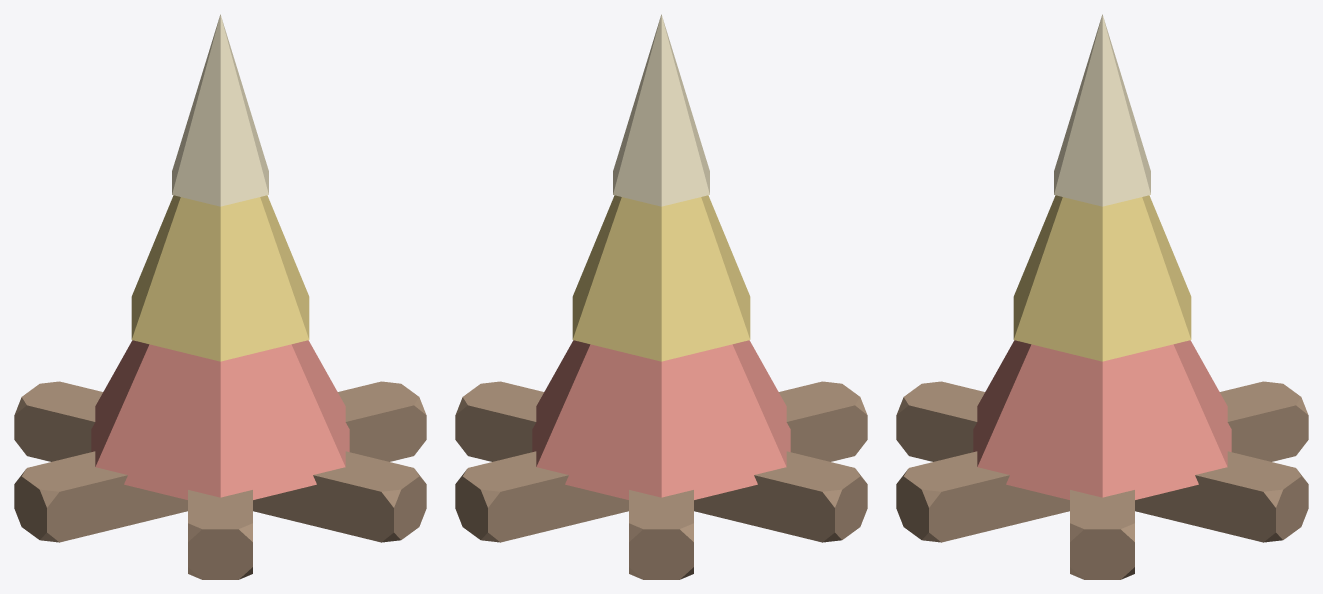
The model's file is campfire.glb.
3 renders of one model, left to right at view 1: azimuth 30°, elevation 25°; view 2: azimuth 150°, elevation 25°; view 3: azimuth 270°, elevation 25°, orthographic.
Visible parts, largest first — view 1: flame_m0, flame_m1, flame_m2, root_m0, root_m2, root_m3, root_m5, root_m1; view 2: flame_m0, flame_m1, flame_m2, root_m0, root_m4, root_m1, root_m3, root_m5; view 3: flame_m0, flame_m1, flame_m2, root_m2, root_m4, root_m1, root_m5, root_m3.
Boxes of the visible parts, x1=… form: flame_m0: x1=91, y1=340, x2=349, y2=499; flame_m1: x1=131, y1=195, x2=309, y2=361; flame_m2: x1=172, y1=14, x2=268, y2=206; root_m0: x1=14, y1=451, x2=187, y2=542; root_m2: x1=253, y1=451, x2=426, y2=542; root_m3: x1=338, y1=381, x2=426, y2=461; root_m5: x1=14, y1=381, x2=102, y2=461; root_m1: x1=188, y1=490, x2=252, y2=579; flame_m0: x1=532, y1=340, x2=790, y2=499; flame_m1: x1=572, y1=195, x2=750, y2=361; flame_m2: x1=613, y1=14, x2=709, y2=206; root_m0: x1=694, y1=451, x2=867, y2=542; root_m4: x1=455, y1=451, x2=628, y2=542; root_m1: x1=779, y1=381, x2=867, y2=461; root_m3: x1=455, y1=381, x2=543, y2=461; root_m5: x1=629, y1=490, x2=693, y2=579; flame_m0: x1=973, y1=340, x2=1231, y2=499; flame_m1: x1=1013, y1=195, x2=1191, y2=361; flame_m2: x1=1054, y1=14, x2=1150, y2=206; root_m2: x1=896, y1=451, x2=1069, y2=542; root_m4: x1=1135, y1=451, x2=1308, y2=542; root_m1: x1=896, y1=381, x2=984, y2=461; root_m5: x1=1220, y1=381, x2=1308, y2=461; root_m3: x1=1070, y1=490, x2=1134, y2=579.
Size of the model in its own units: 0.47 by 0.56 by 0.442.
